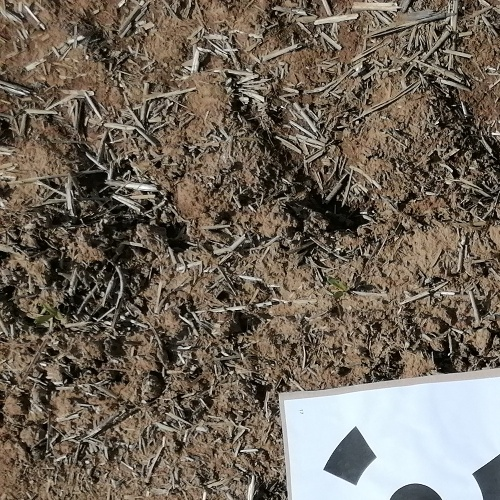beet: (27, 300, 71, 325), (327, 277, 348, 301)
